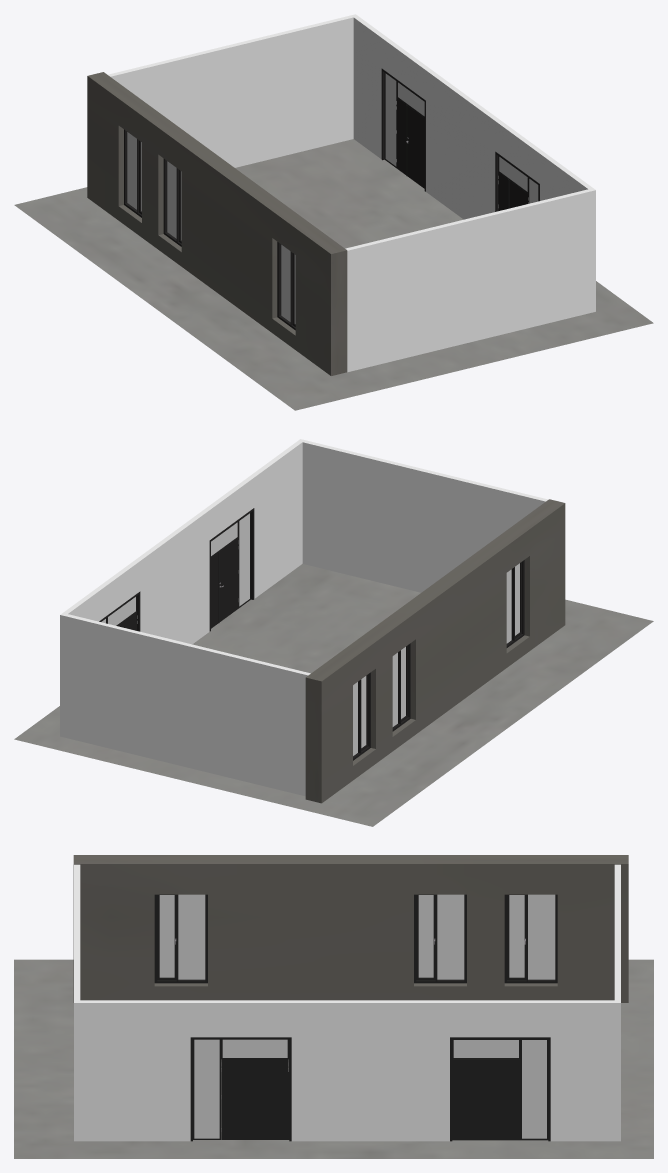
Rendered from LargeRoom.fbx.
The picture shows the model from 3 angles, top to bottom: view 1: azimuth 30°, elevation 25°; view 2: azimuth 150°, elevation 25°; view 3: azimuth 270°, elevation 25°; orthographic projection. The views are drawn at different scales.
Visible parts, largest first — view 1: Walls, Floor, OuterWall, Door.001, SideGlass.001, Glass.001, Glass.002, Glass.003, Door, OuterFrame.001, OuterFrame.002, OuterFrame.003; view 2: Walls, Floor, OuterWall, Door, SideGlass, Glass.001, Glass.002, Glass.003, OuterFrame.008, OuterFrame.001, OuterFrame.004; view 3: OuterWall, Walls, Floor, Door.001, Door, Glass.001, Glass.002, Glass.003, SideGlass, SideGlass.001, UpperGlass.001, UpperGlass (+10 smaller).
Part boxes in pixels (x1,y1,x2,y2): Walls: (108, 14, 595, 372); Floor: (14, 139, 653, 410); OuterWall: (87, 72, 347, 375); Door.001: (397, 98, 424, 188); SideGlass.001: (385, 73, 396, 166); Glass.001: (281, 245, 295, 323); Glass.002: (167, 161, 181, 240); Glass.003: (127, 132, 141, 211); Door: (498, 172, 528, 210); OuterFrame.001: (277, 242, 295, 330); OuterFrame.002: (163, 158, 181, 246); OuterFrame.003: (381, 68, 425, 191); Walls: (60, 439, 548, 796); Floor: (14, 564, 653, 826); OuterWall: (305, 499, 565, 803); Door: (211, 538, 238, 628); SideGlass: (239, 513, 249, 606); Glass.001: (506, 563, 519, 643); Glass.002: (392, 647, 405, 726); Glass.003: (353, 676, 366, 755); OuterFrame.008: (209, 508, 254, 631); OuterFrame.001: (506, 560, 524, 647); OuterFrame.004: (353, 672, 370, 760); OuterWall: (73, 855, 628, 1002); Walls: (74, 864, 620, 1141); Floor: (14, 959, 653, 1158); Door.001: (453, 1059, 520, 1140); Door: (221, 1059, 288, 1139); Glass.001: (159, 894, 205, 979); Glass.002: (418, 894, 464, 979); Glass.003: (509, 894, 555, 979); SideGlass: (194, 1039, 219, 1138); SideGlass.001: (522, 1040, 546, 1138); UpperGlass.001: (222, 1039, 287, 1057); UpperGlass: (453, 1040, 518, 1057).
Bounding box in the file's own units: 1112 × 362 × 1509.
